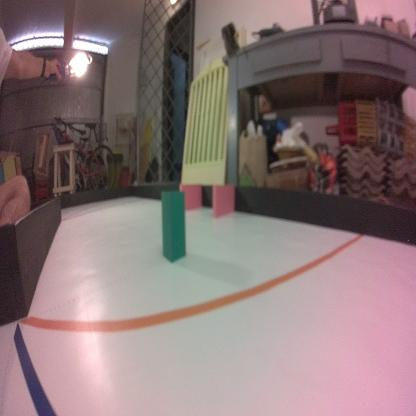green: (160, 187, 188, 264)
magenta: (211, 182, 235, 220), (180, 181, 203, 212)
